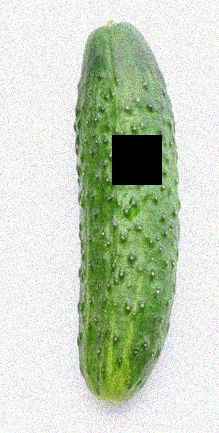cucumber: (70, 19, 176, 406)
